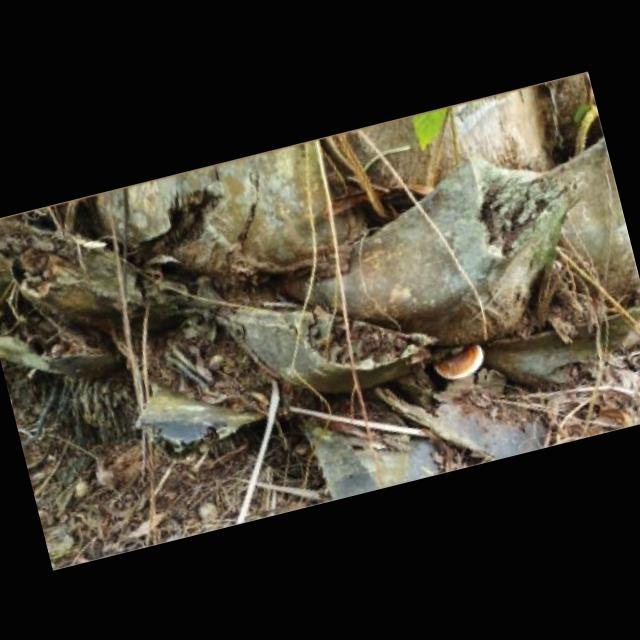ganoderma: (428, 340, 488, 385)
